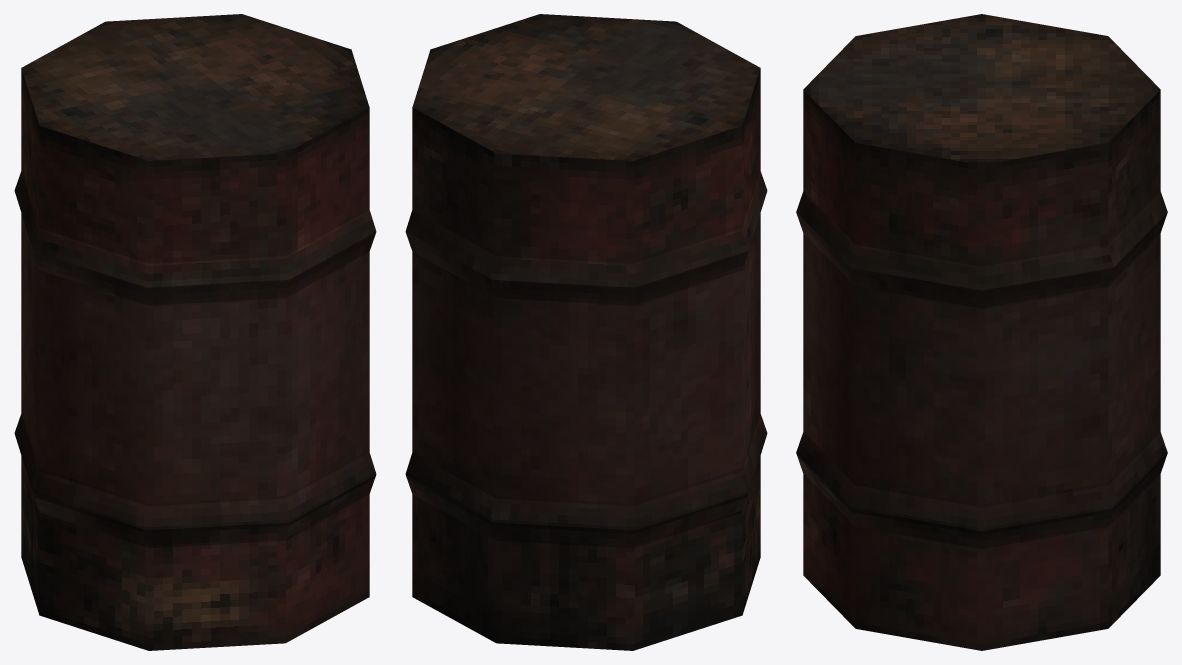
File: metal_barrel_fps_1.glb
The picture shows the model from 3 angles, left to right: view 1: azimuth 30°, elevation 25°; view 2: azimuth 150°, elevation 25°; view 3: azimuth 270°, elevation 25°; orthographic projection.
Visible parts, largest first — view 1: metal_barrel_fps_1; view 2: metal_barrel_fps_1; view 3: metal_barrel_fps_1.
Part boxes in pixels (x1,y1,x2,y2): metal_barrel_fps_1: [14, 14, 376, 650]; metal_barrel_fps_1: [405, 14, 767, 650]; metal_barrel_fps_1: [796, 14, 1167, 650].
Bounding box in the file's own units: 0.6739 × 0.972 × 0.6739.
Materials: 1 (1 with a texture image).
